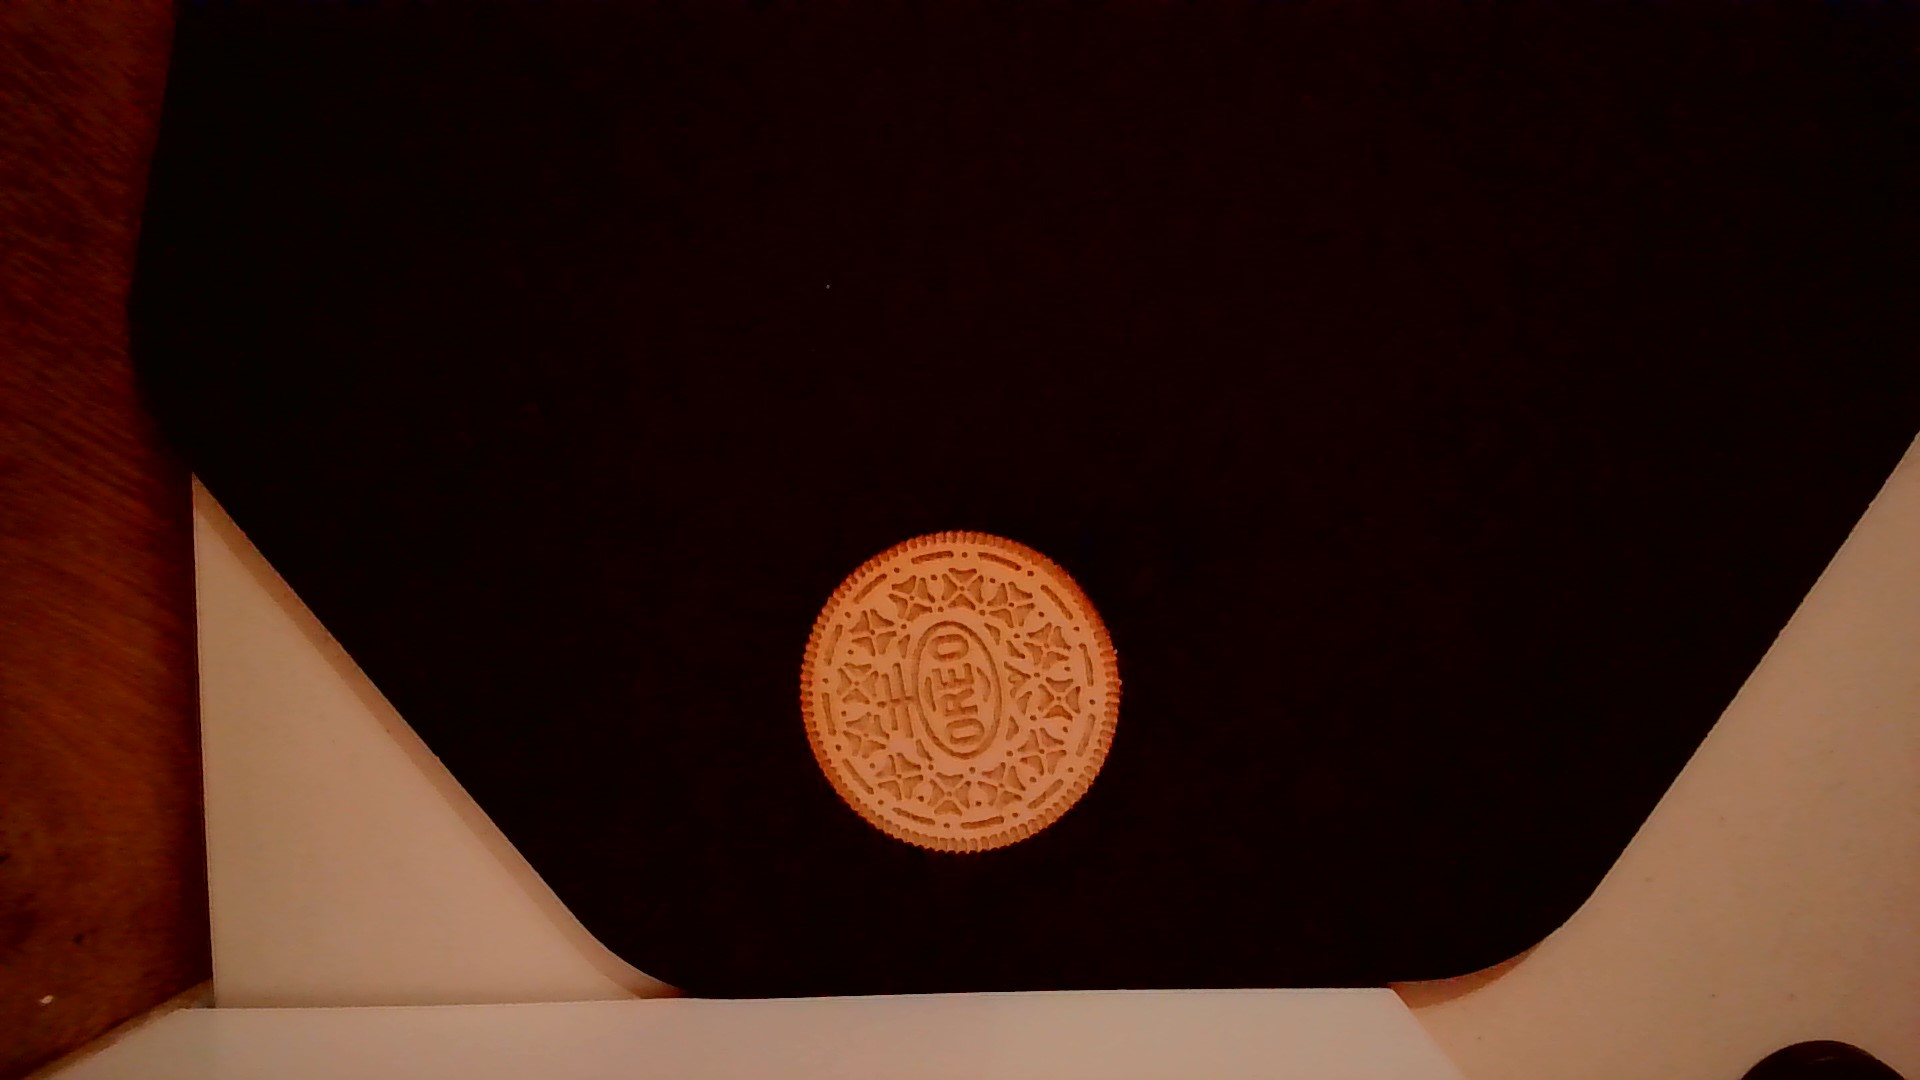Oréo: (790, 518, 1127, 865)
